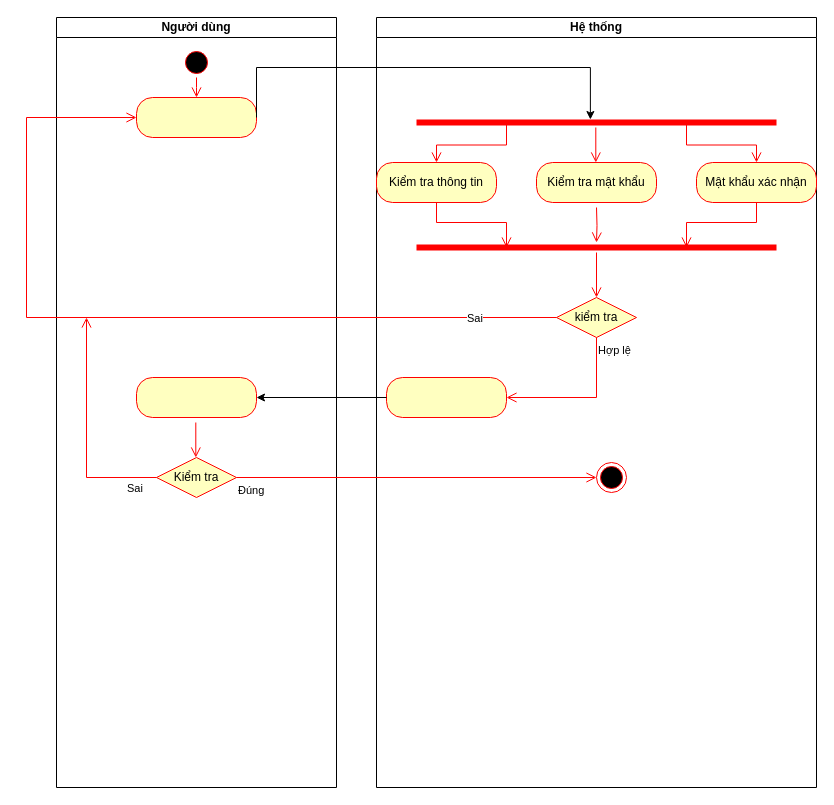
Some shapes in this 834 by 805 pixel diagram are drawn without their labels. Here are the shapes that lost their labels. From the top down, the centre of each, then its label:
At point (196, 117): "Nhập thông tin đăng ký".
At point (196, 397): "Nhấn xác nhận đăng ký".
At point (446, 397): "Gửi mail xác nhận đăng ký tài khoản".
